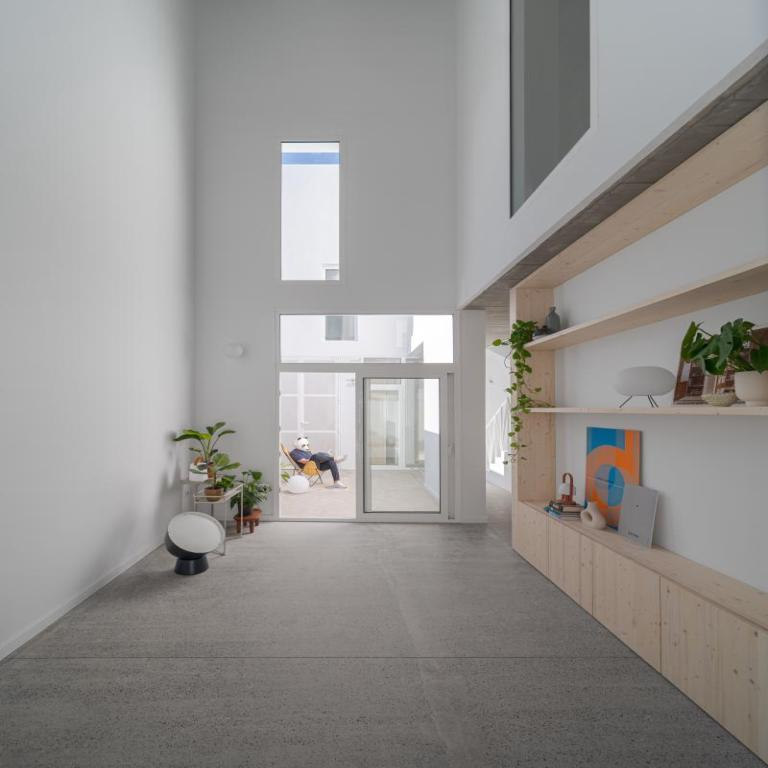white-walls: (2, 22, 484, 618)
